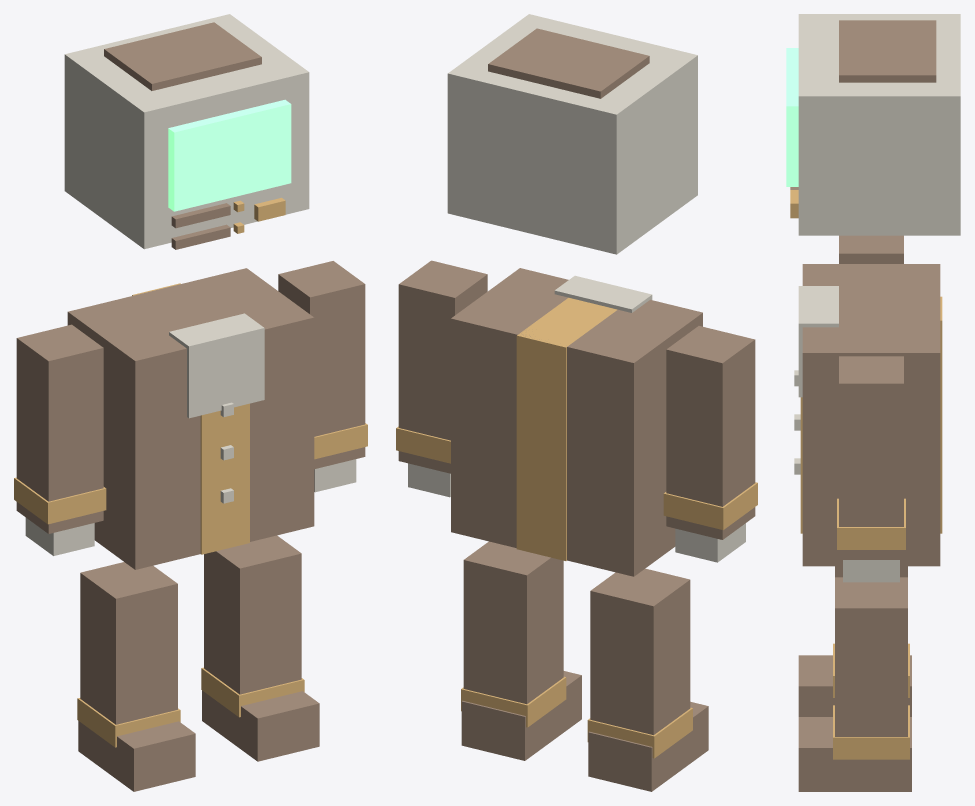
File: old-computer.glb
The picture shows the model from 3 angles, left to right: view 1: azimuth 30°, elevation 25°; view 2: azimuth 150°, elevation 25°; view 3: azimuth 270°, elevation 25°; orthographic projection. The views are drawn at different scales.
Visible parts, largest first — view 1: CardiganTorso, TerminalCasing, Sleeve_L, Pants_L, Pants_R, ScreenFace, Sleeve_R, InnerShirt, CardiganPlacket, CoolingVents, Oxford_L, Oxford_R (+8 smaller); view 2: CardiganTorso, TerminalCasing, Sleeve_L, Pants_L, Pants_R, CardiganPlacket, Sleeve_R, CoolingVents, Oxford_L, Oxford_R, Cuff_L, InnerShirt (+5 smaller); view 3: TerminalCasing, CardiganTorso, Sleeve_R, Pants_R, CoolingVents, Oxford_R, Oxford_L, InnerShirt, PantCuff_R, Sleeve_L, ScreenFace, Cuff_R (+2 smaller).
Boxes of the visible parts, box(x1,y1,x2,y2) form: CardiganTorso: box(67, 268, 314, 569); TerminalCasing: box(64, 14, 309, 249); Sleeve_L: box(16, 324, 103, 533); Pants_L: box(80, 562, 177, 724); Pants_R: box(204, 535, 301, 719); ScreenFace: box(168, 99, 291, 211); Sleeve_R: box(278, 261, 365, 469); InnerShirt: box(169, 313, 264, 418); CardiganPlacket: box(132, 283, 249, 554); CoolingVents: box(104, 22, 261, 90); Oxford_L: box(78, 721, 195, 791); Oxford_R: box(202, 690, 319, 761); CardiganTorso: box(451, 268, 702, 576); TerminalCasing: box(447, 14, 697, 254); Sleeve_L: box(666, 326, 755, 539); Pants_L: box(590, 568, 690, 760); Pants_R: box(463, 541, 563, 729); CardiganPlacket: box(516, 297, 617, 560); Sleeve_R: box(398, 260, 487, 473); CoolingVents: box(488, 28, 649, 98); Oxford_L: box(588, 701, 708, 791); Oxford_R: box(461, 671, 581, 760); Cuff_L: box(663, 482, 757, 530); InnerShirt: box(554, 275, 652, 312); TerminalCasing: box(798, 14, 960, 235); CardiganTorso: box(802, 264, 940, 566); Sleeve_R: box(839, 356, 903, 559); Pants_R: box(835, 577, 907, 762); CoolingVents: box(839, 20, 936, 82); Oxford_R: box(798, 717, 911, 791); Oxford_L: box(798, 655, 911, 716); InnerShirt: box(798, 286, 838, 397); PantCuff_R: box(833, 705, 909, 759); Sleeve_L: box(839, 235, 903, 263); ScreenFace: box(786, 48, 798, 186); Cuff_R: box(837, 498, 905, 549).
Size of the model in its own units: 0.93 by 1.9 by 0.43.
